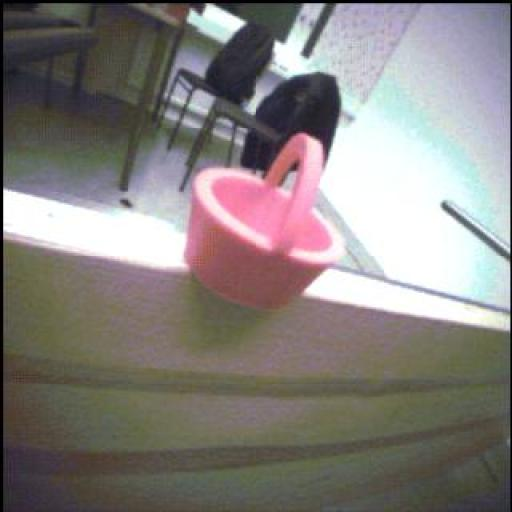Bucket: (185, 133, 345, 315)
